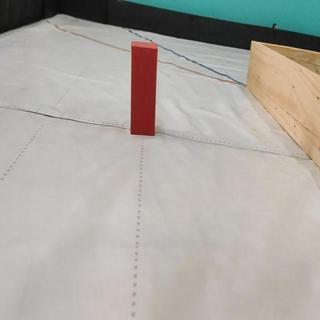redbox: (129, 40, 159, 137)
